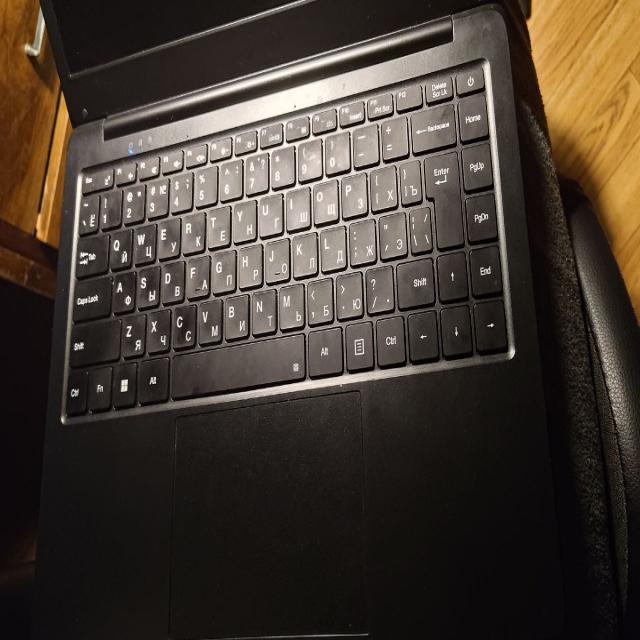other: (170, 300, 197, 343), (434, 100, 457, 140), (190, 383, 208, 401)
